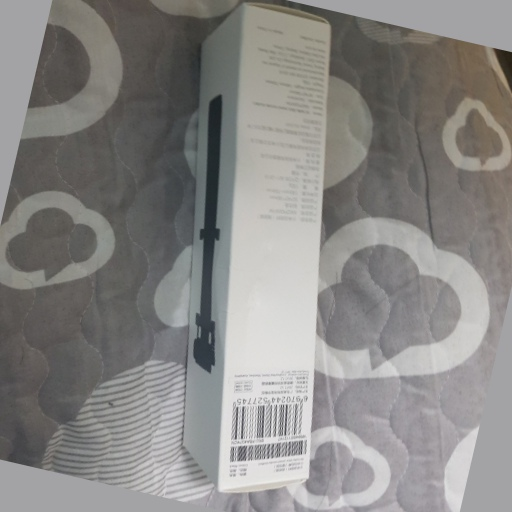Paper_0: (180, 3, 333, 501)
